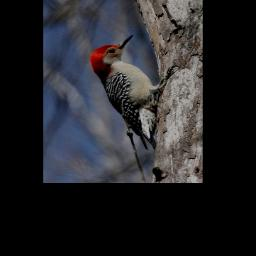Woodpecker: (86, 32, 184, 155)
